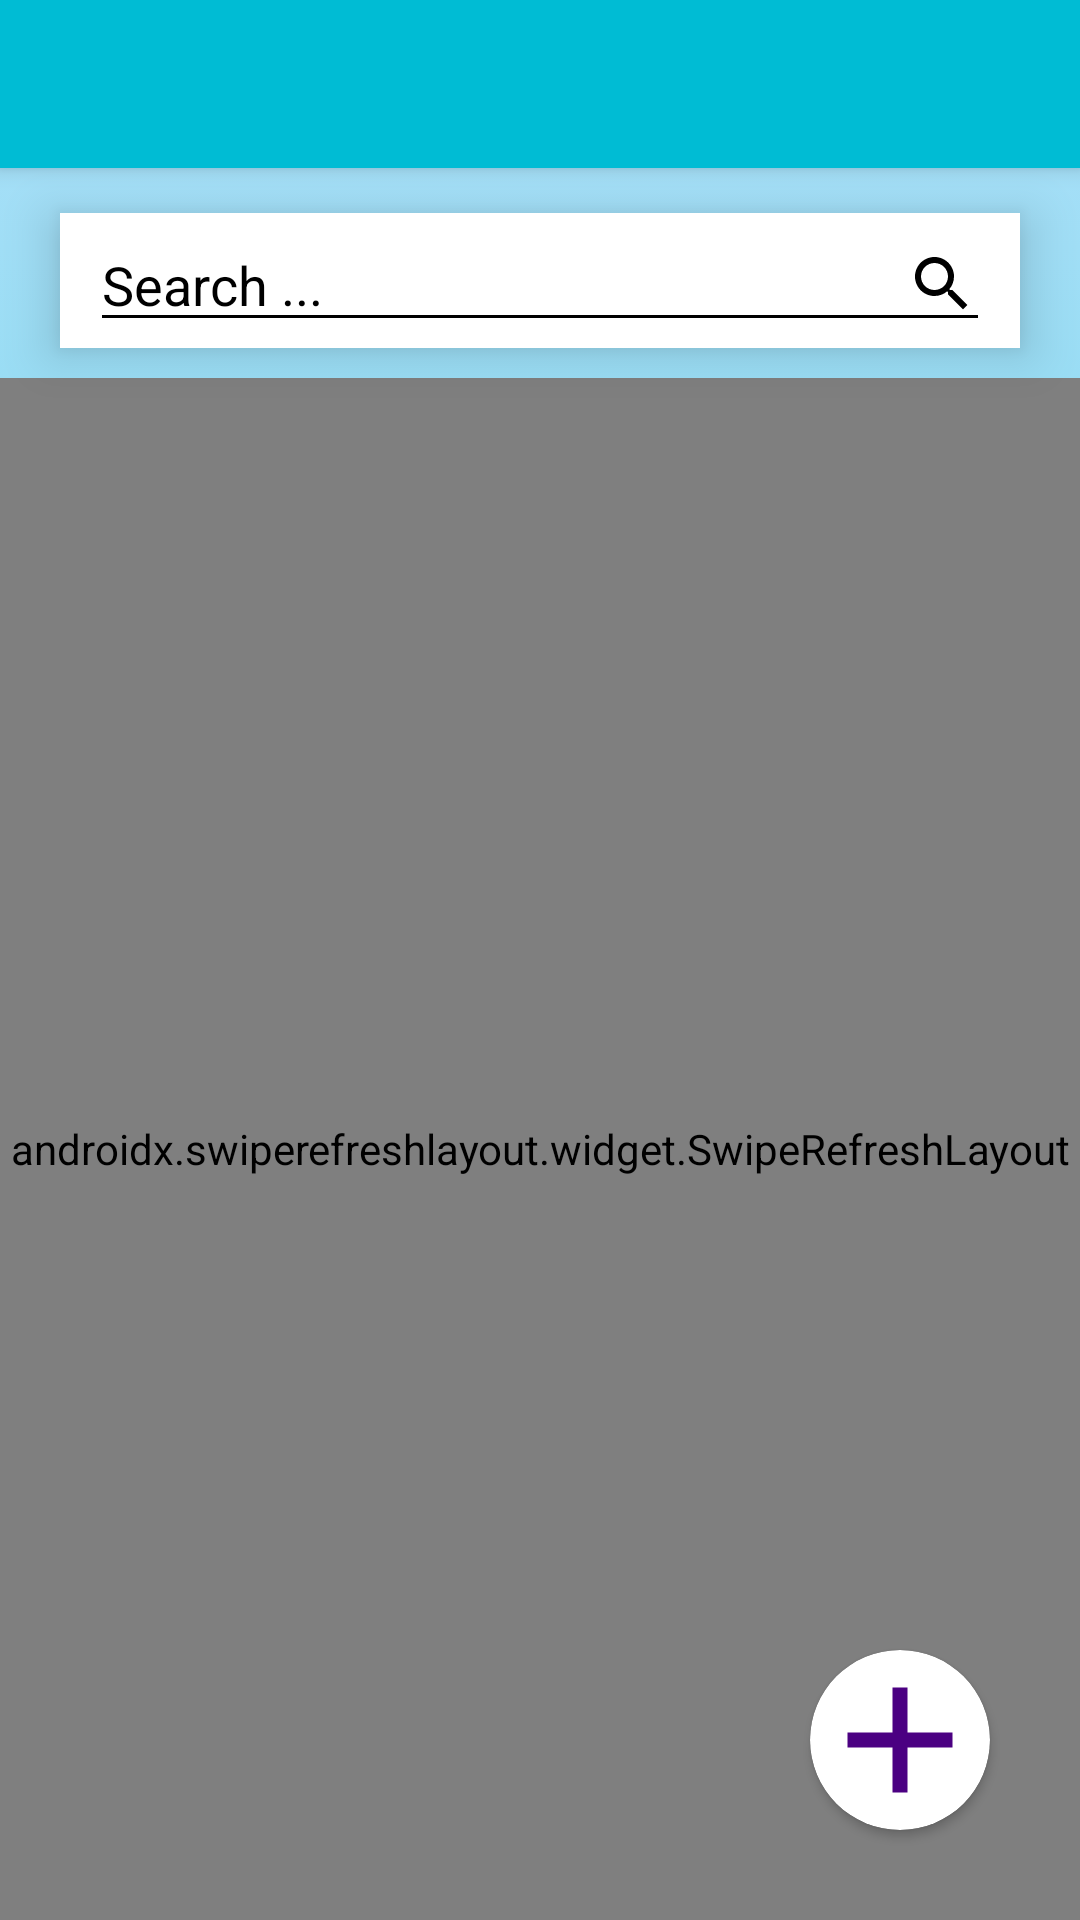

Icons on this 1080×1920 Android screen, each with the point to tap as (x=x, y=y):
add: (x=900, y=1740)
